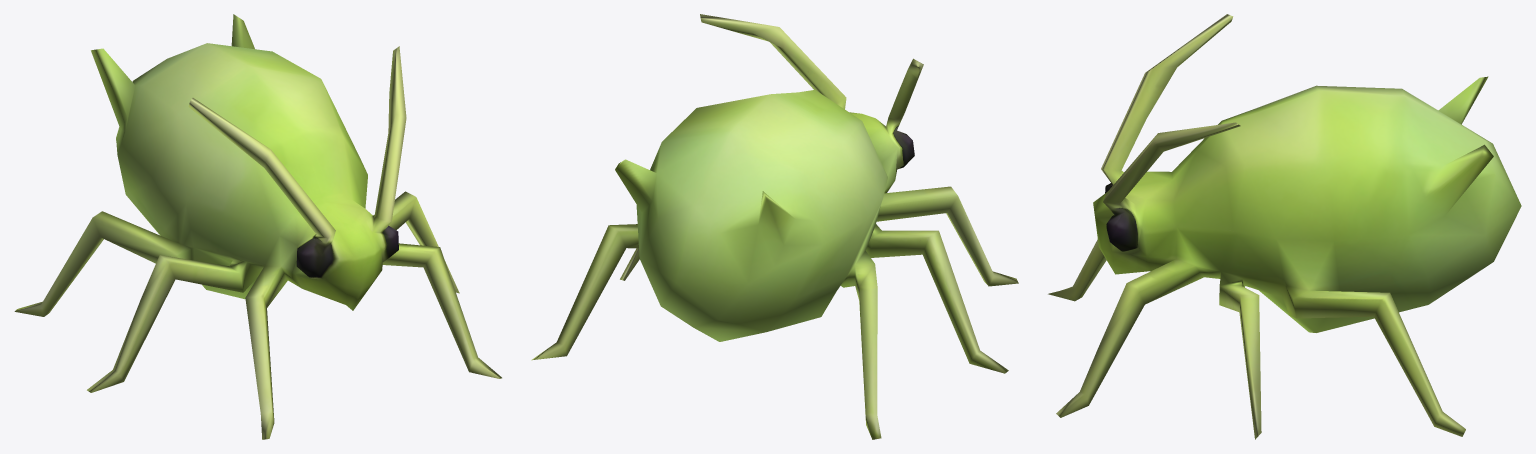
The model's file is Aphid.glb.
3 views of the same model, side by side, from view 1: azimuth 30°, elevation 25°; view 2: azimuth 150°, elevation 25°; view 3: azimuth 270°, elevation 25° (orthographic). The views are drawn at different scales.
Parts seen in each view (by area): view 1: Aphid; view 2: Aphid; view 3: Aphid.
Part boxes in pixels (left/top/right/bottom): Aphid: left=14, top=14, right=501, bottom=439; Aphid: left=531, top=14, right=1018, bottom=439; Aphid: left=1048, top=14, right=1521, bottom=439.
Size of the model in its own units: 0.9524 by 0.6659 by 1.
1 material, 1 textured.
